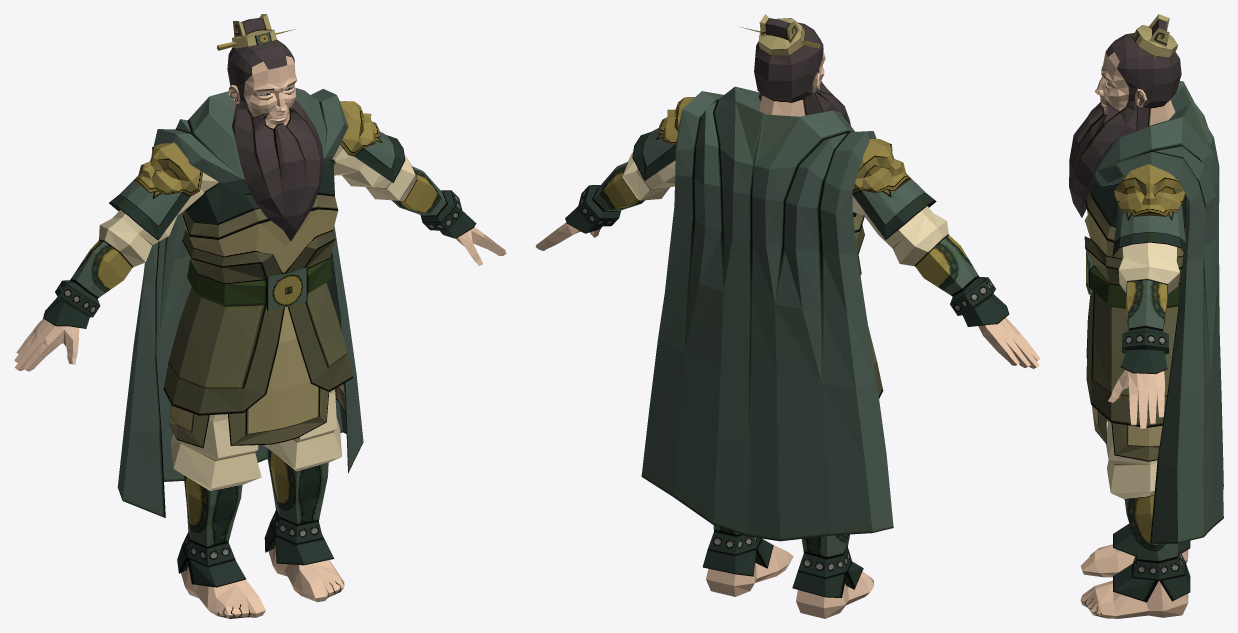
The model's file is General Fong.obj.
3 renders of one model, left to right at view 1: azimuth 30°, elevation 25°; view 2: azimuth 150°, elevation 25°; view 3: azimuth 270°, elevation 25°, orthographic. The views are drawn at different scales.
Visible parts, largest first — view 1: General_Fong:Mesh; view 2: General_Fong:Mesh; view 3: General_Fong:Mesh.
Part boxes in pixels (x1,y1,x2,y2): General_Fong:Mesh: [14, 14, 506, 618]; General_Fong:Mesh: [535, 14, 1040, 618]; General_Fong:Mesh: [1069, 14, 1223, 618].
Bounding box in the file's own units: 1.64 × 1.81 × 0.4486.
1 material, 1 textured.
